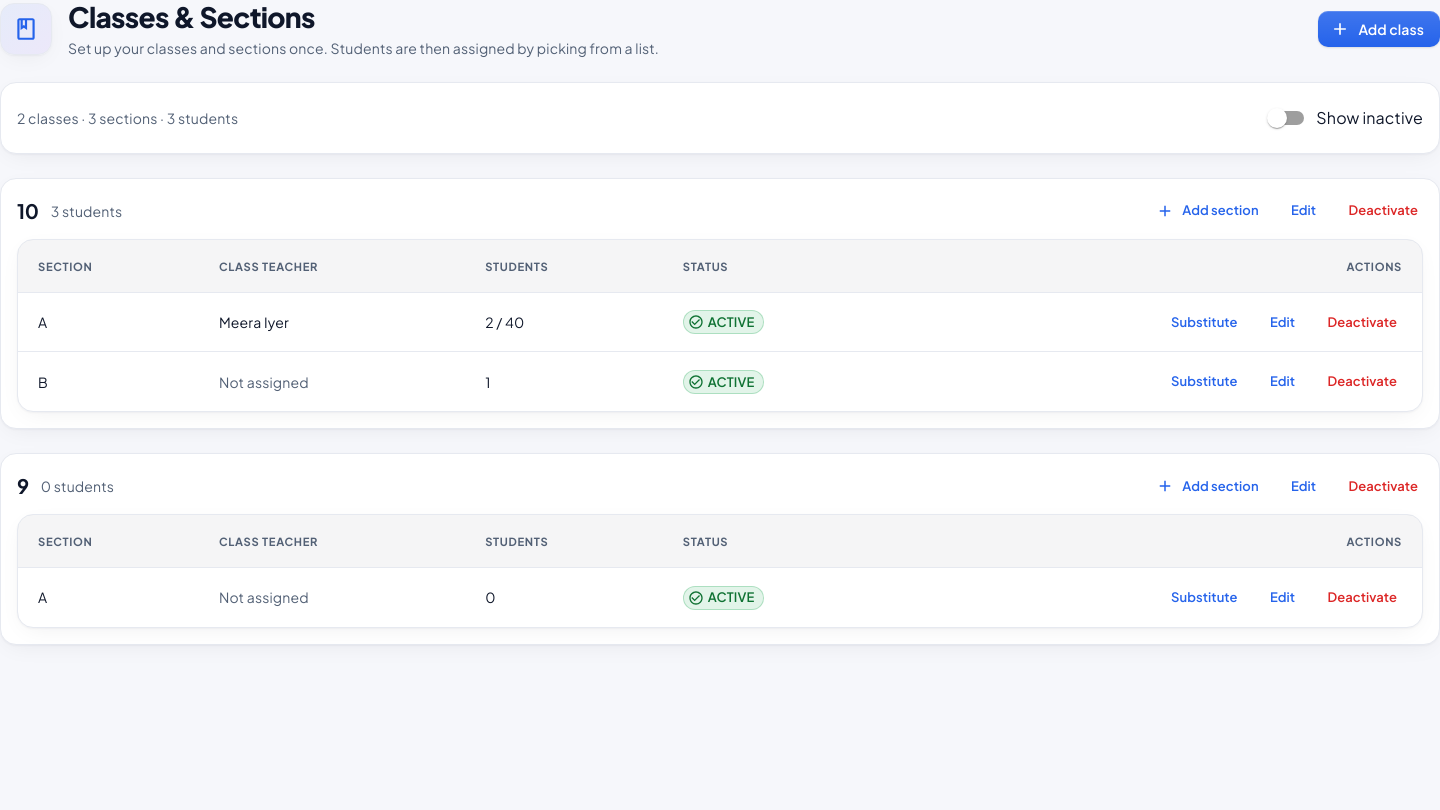
Test: ClassesPage › shows the reason when a section cannot be deactivated
Click the button "Deactivate" in the row of "Meera Iyer".
click(1362, 322)  # box [1323,307,1402,337]
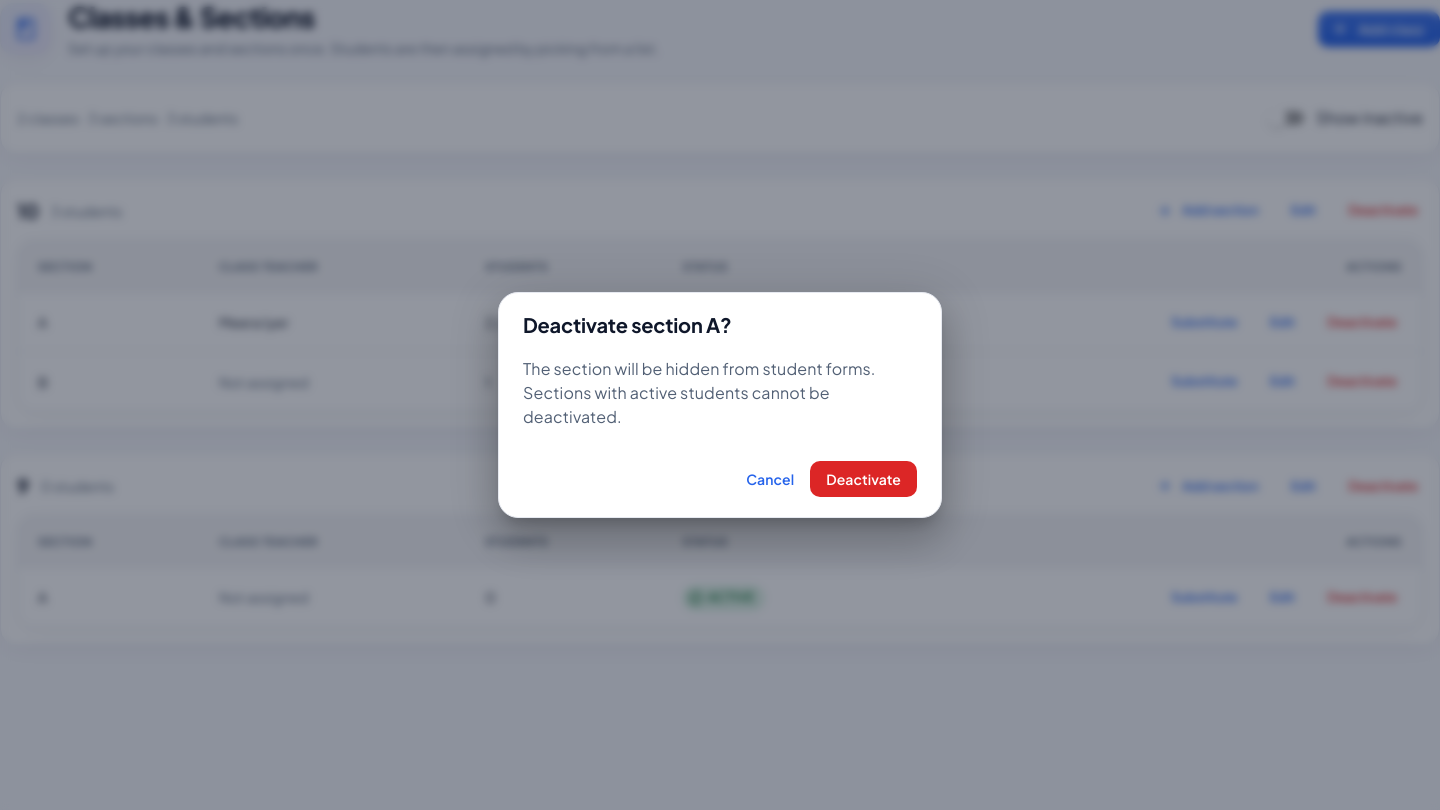
Click the button "Deactivate".
click(864, 479)  # box [810,461,917,497]
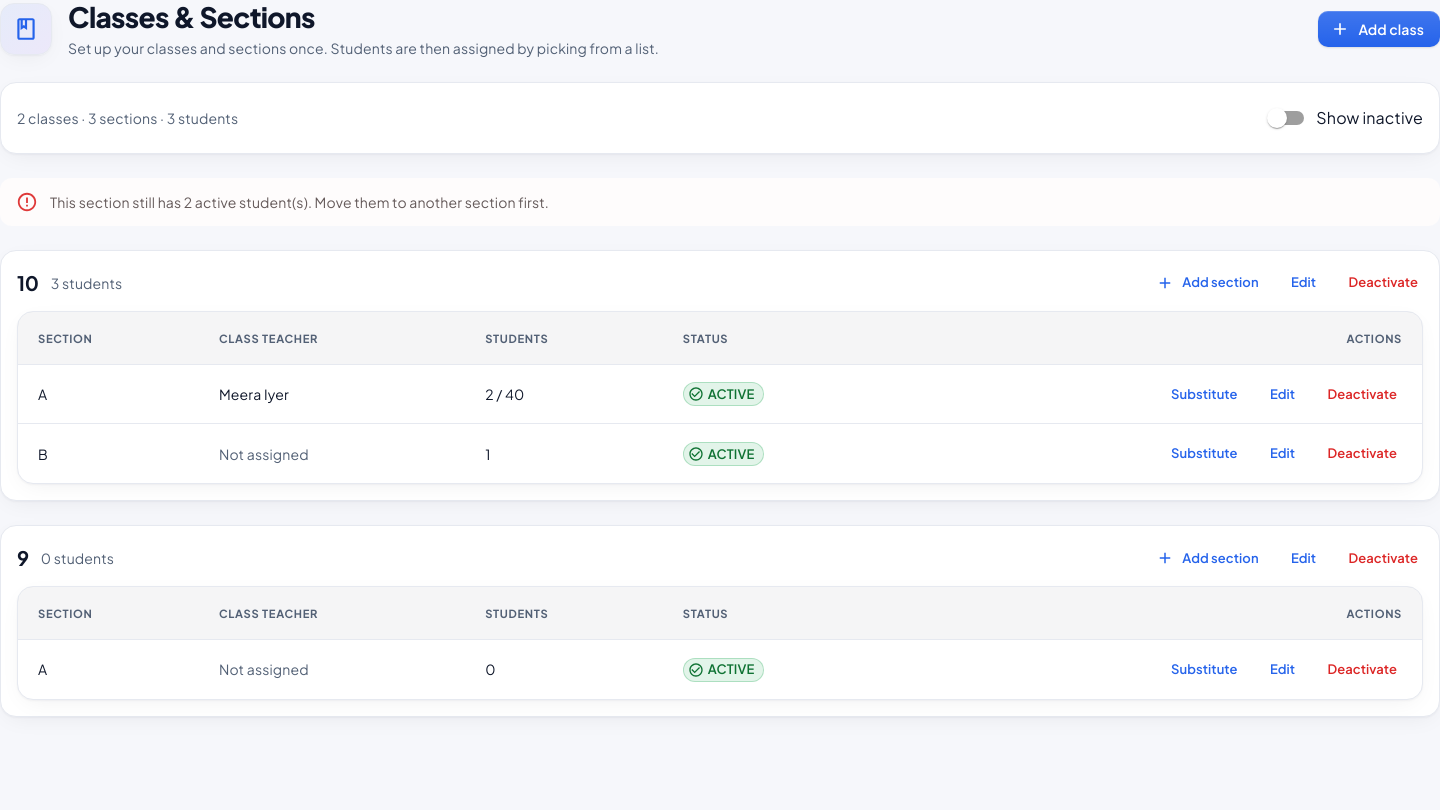
Expected: the text "still has 2 active student" is shown, [50,193,549,211]
